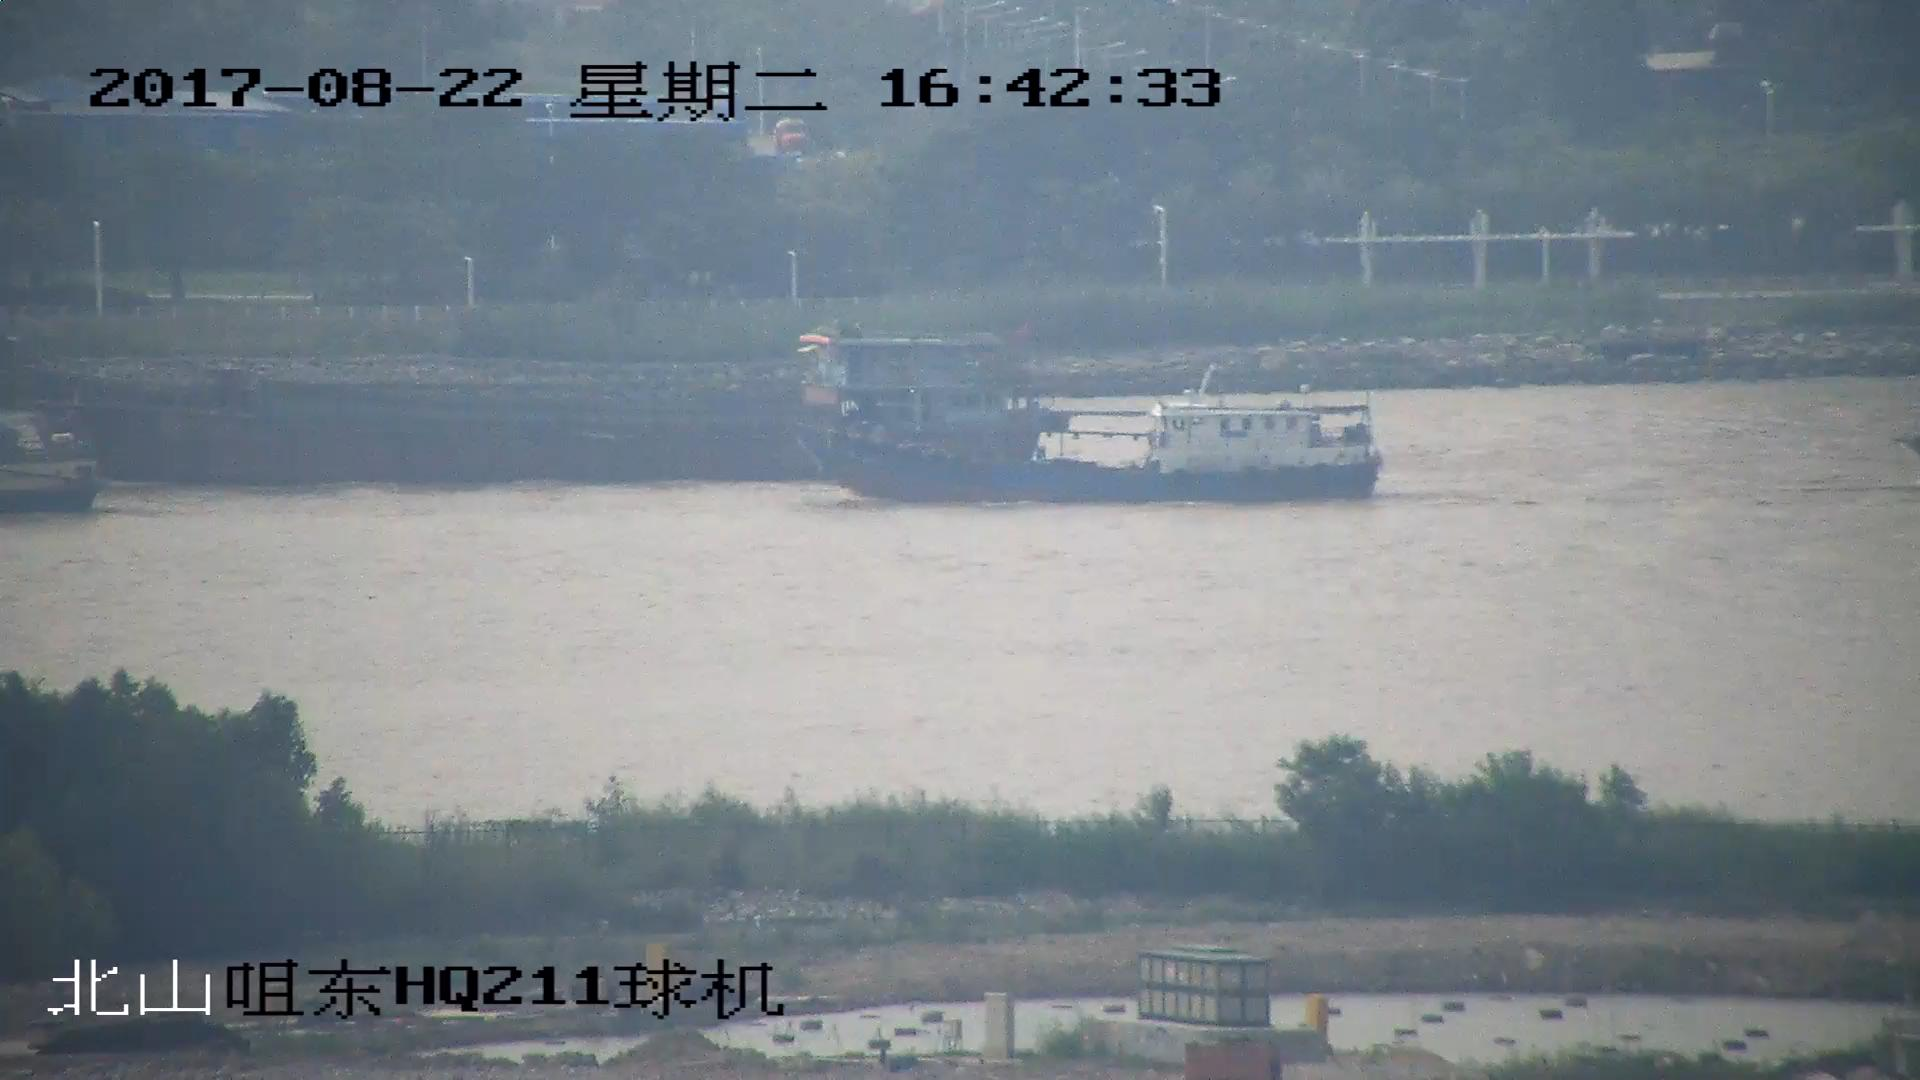bulk cargo carrier: (1, 328, 1059, 482)
fishing boat: (802, 382, 1385, 507)
